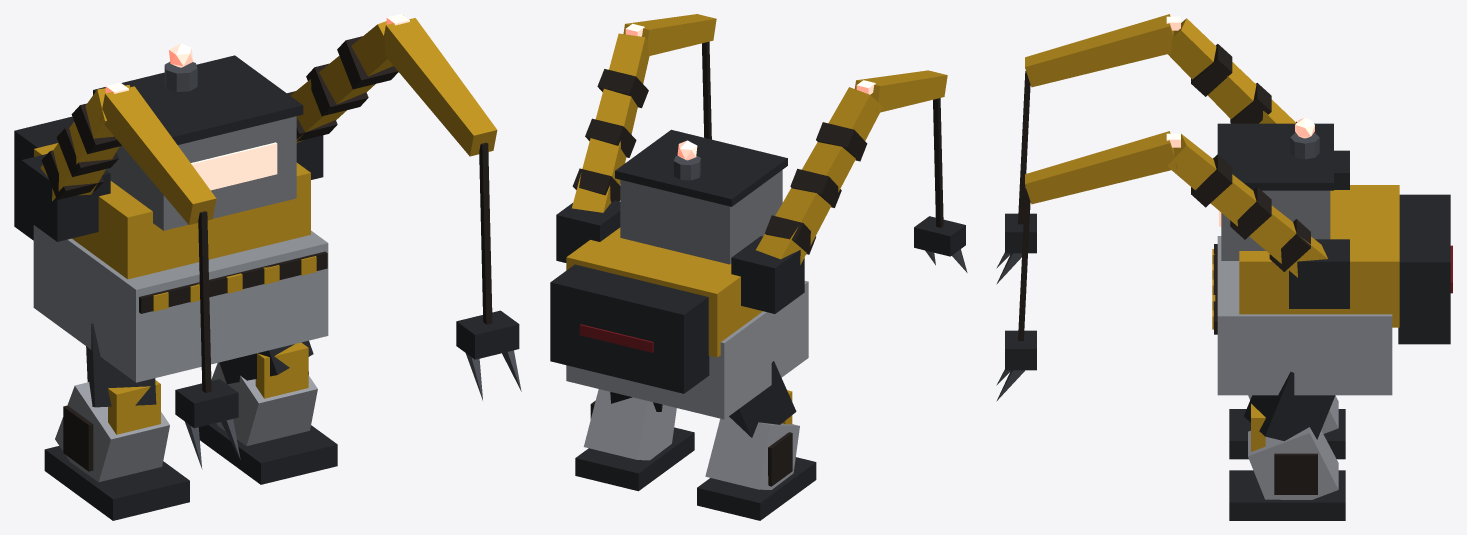
File: foreman.glb
3 renders of one model, left to right at view 1: azimuth 30°, elevation 25°; view 2: azimuth 150°, elevation 25°; view 3: azimuth 270°, elevation 25°, orthographic. The views are drawn at different scales.
Parts seen in each view (by area): view 1: ForemanHull, ForemanGlow; view 2: ForemanHull, ForemanGlow; view 3: ForemanHull, ForemanGlow.
Boxes of the visible parts, x1,y1,x2,y2 form: ForemanHull: (14,15,521,520); ForemanGlow: (105,14,409,190); ForemanHull: (550,14,967,520); ForemanGlow: (625,23,875,160); ForemanHull: (996,14,1452,520); ForemanGlow: (1166,16,1314,226).
Size of the model in its own units: 2.2 by 3 by 3.13.
